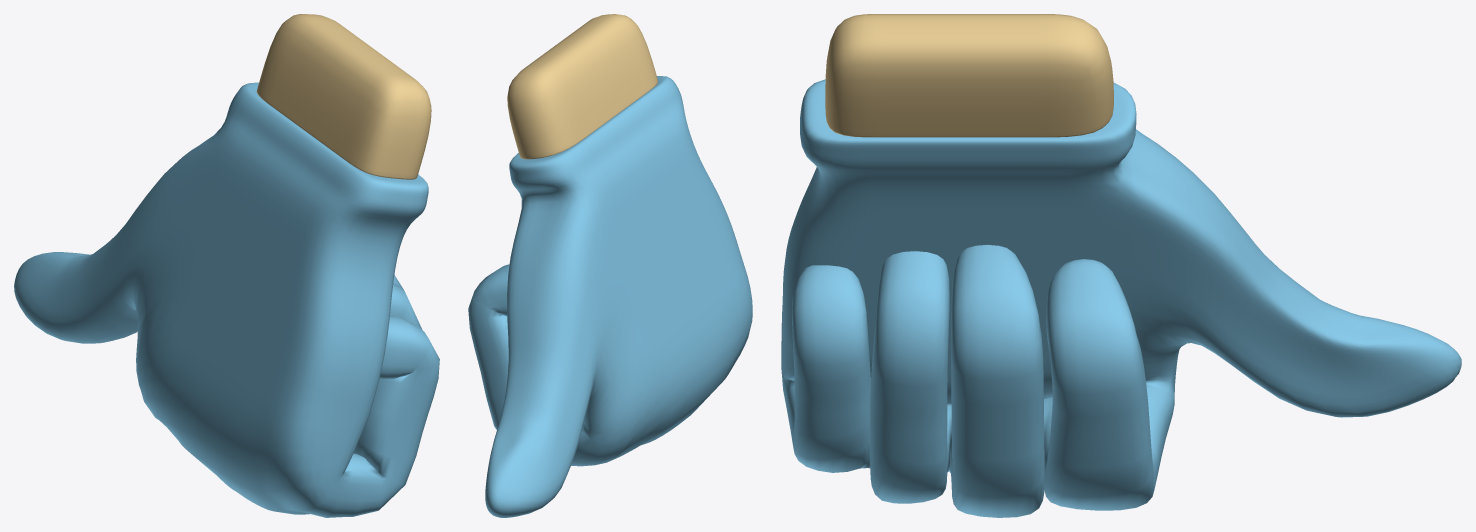
File: StaticHand.fbx
3 renders of one model, left to right at view 1: azimuth 30°, elevation 25°; view 2: azimuth 150°, elevation 25°; view 3: azimuth 270°, elevation 25°, orthographic. The views are drawn at different scales.
Parts seen in each view (by area): view 1: Plane.001; view 2: Plane.001; view 3: Plane.001.
Boxes of the visible parts, x1=… form: Plane.001: x1=14, y1=14, x2=439, y2=517; Plane.001: x1=468, y1=14, x2=752, y2=517; Plane.001: x1=781, y1=14, x2=1461, y2=517.
Bounding box in the file's own units: 78.78 × 161 × 194.
